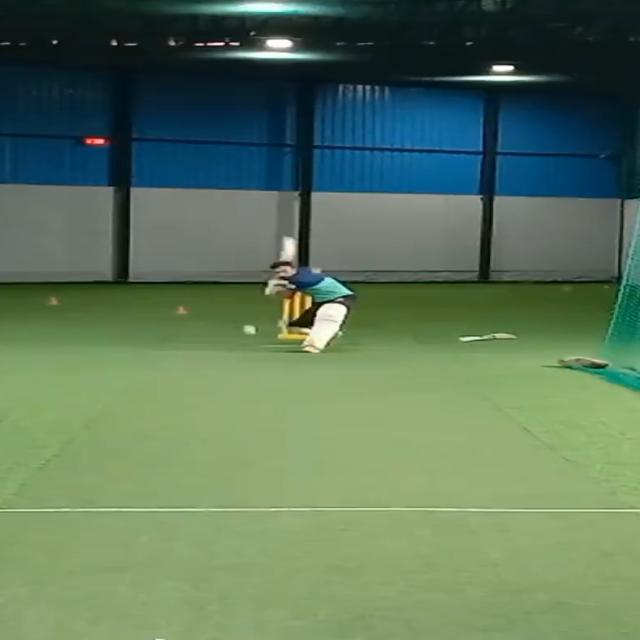ball: (239, 322, 259, 338)
stump: (279, 288, 315, 341)
